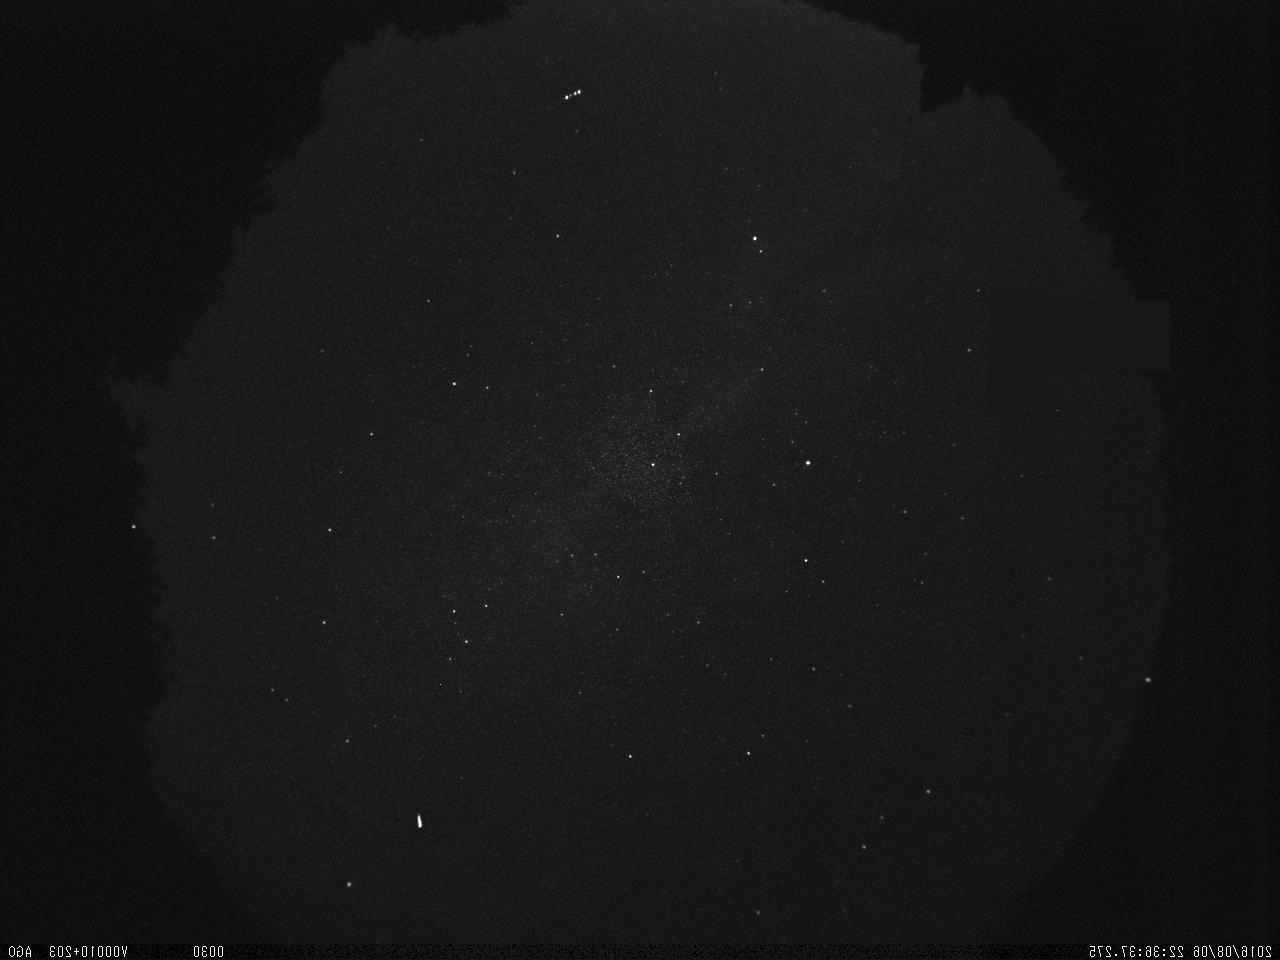meteor: (411, 807, 429, 836)
satelite: (555, 81, 588, 108)
